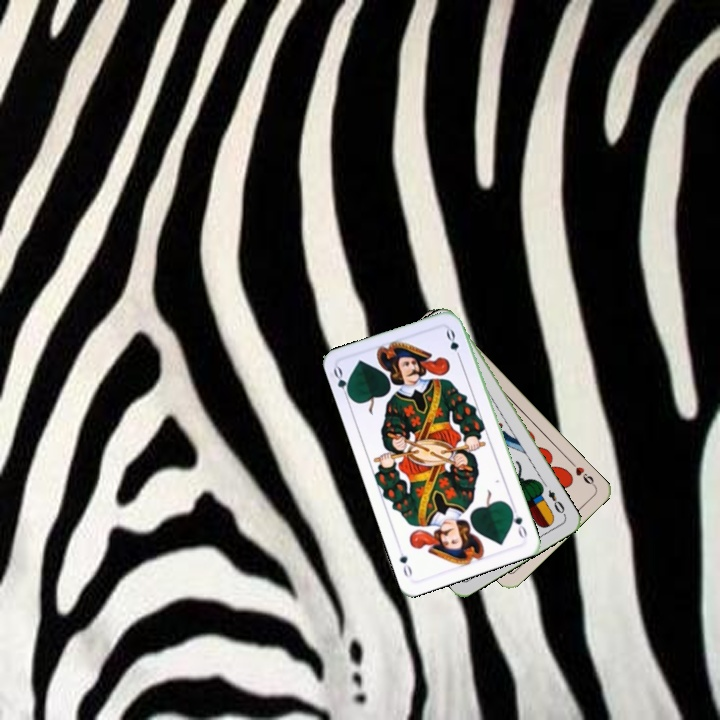EO: (544, 486, 568, 518)
GO: (329, 363, 354, 403), (506, 503, 530, 542)
H9: (566, 457, 598, 489)
